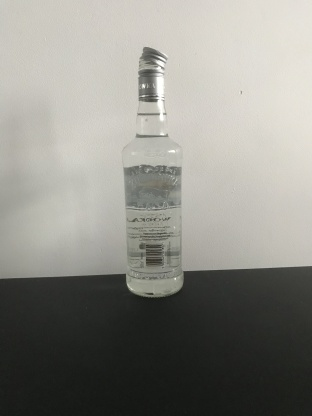nakretka: (136, 43, 169, 102)
